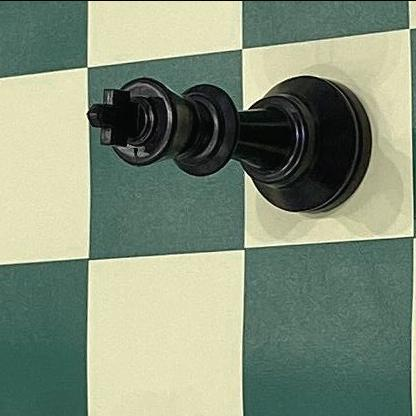black-king: (78, 60, 380, 224)
